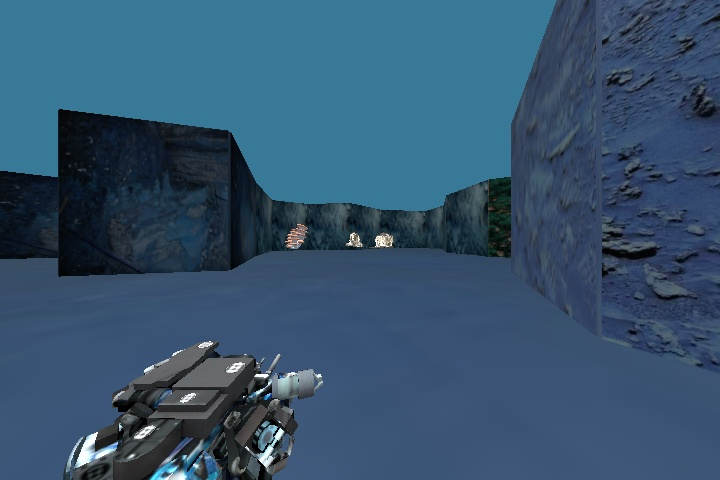formation: (340, 227, 398, 252)
mushrooms: (278, 216, 310, 254)
